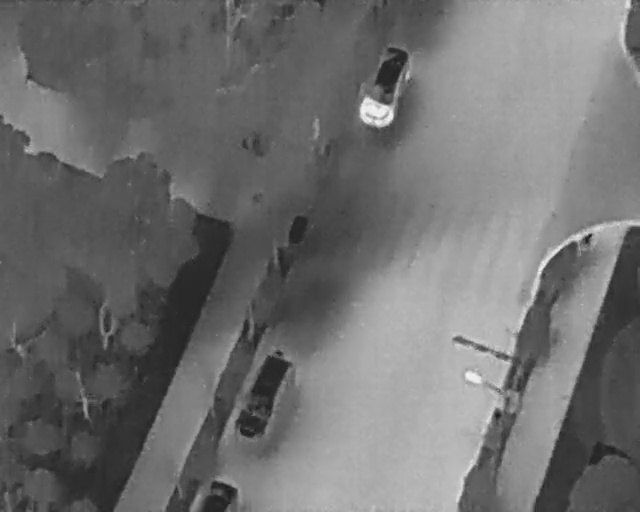Car: (225, 348, 297, 447), (354, 40, 416, 134), (198, 479, 239, 510)
